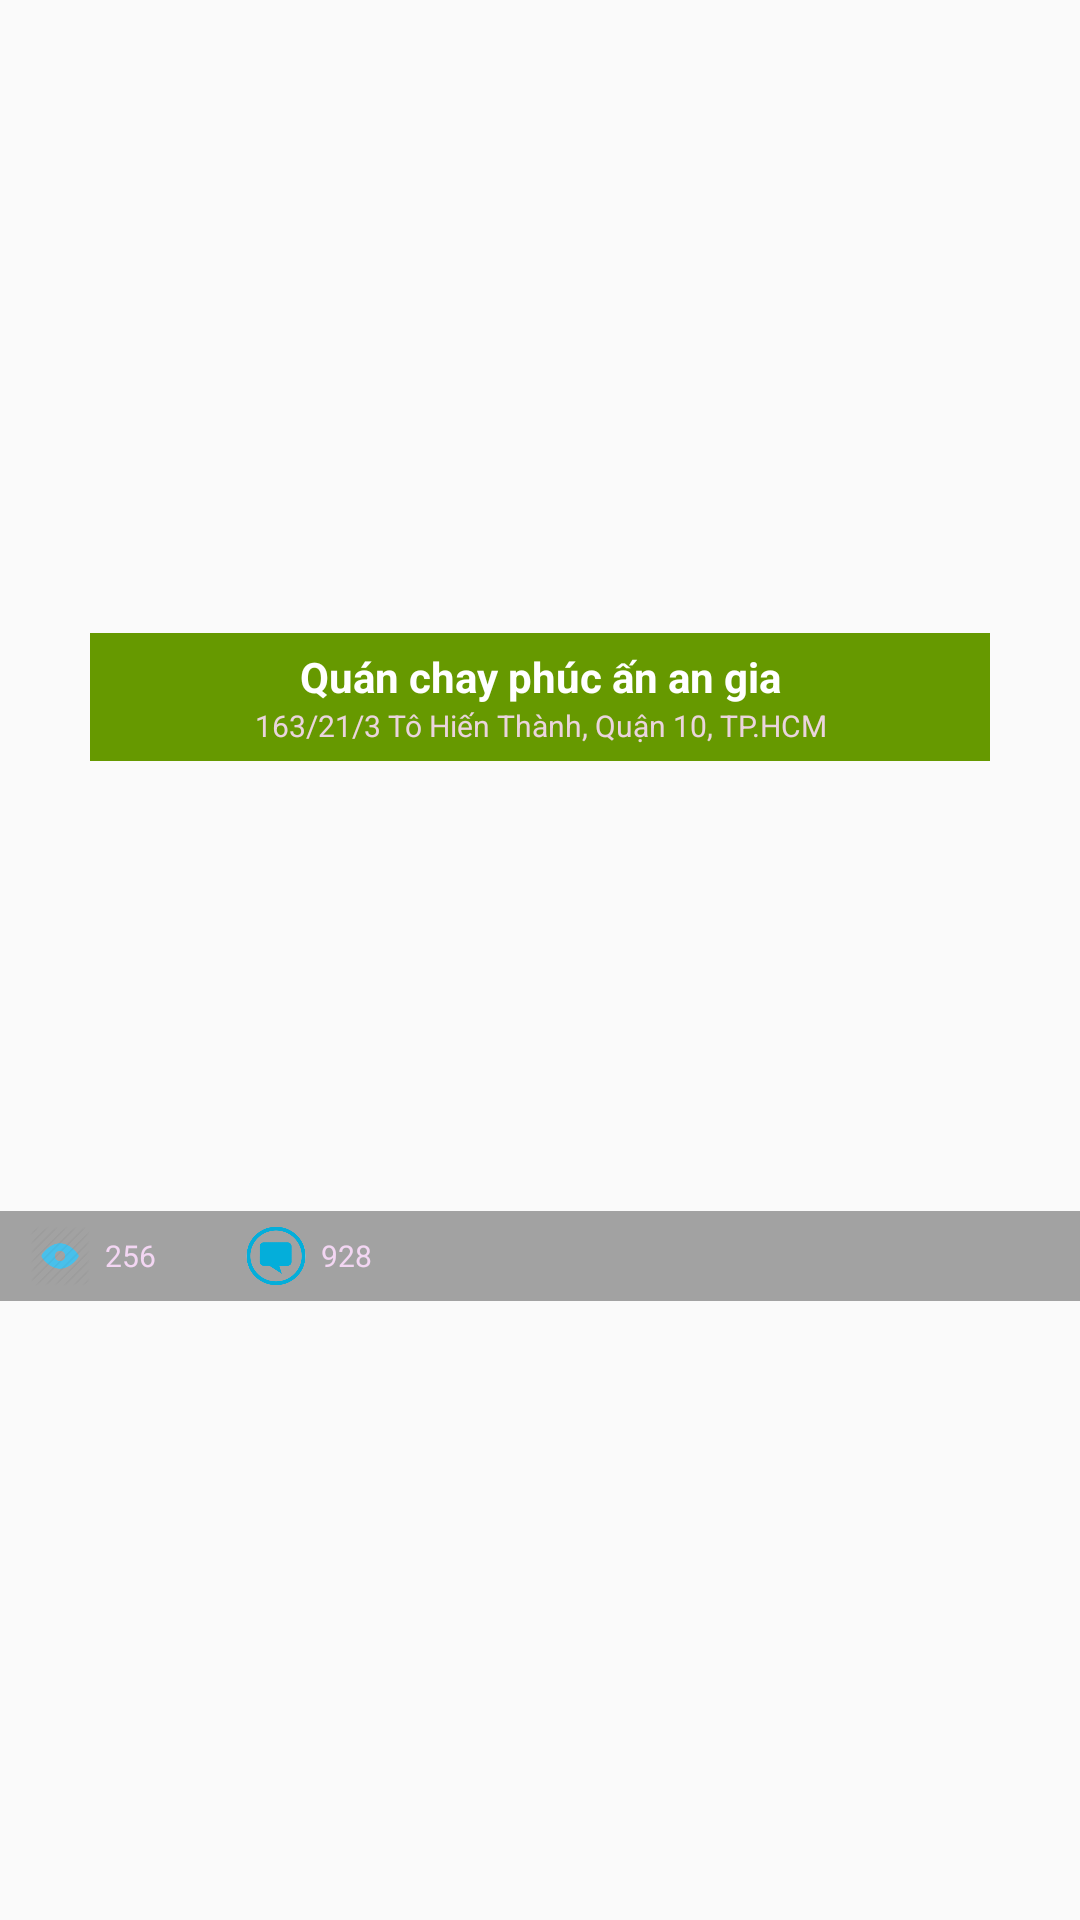

Screen size 1080w x 1920h. Icon name, then its box in pixels as bbox=[x1, y1, x2, y2]:
views: bbox=[41, 1243, 79, 1269]
